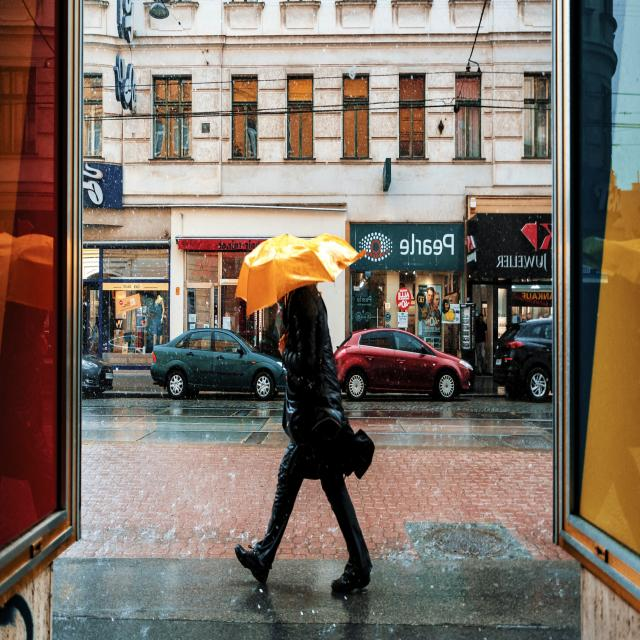adult: (237, 272, 367, 594)
